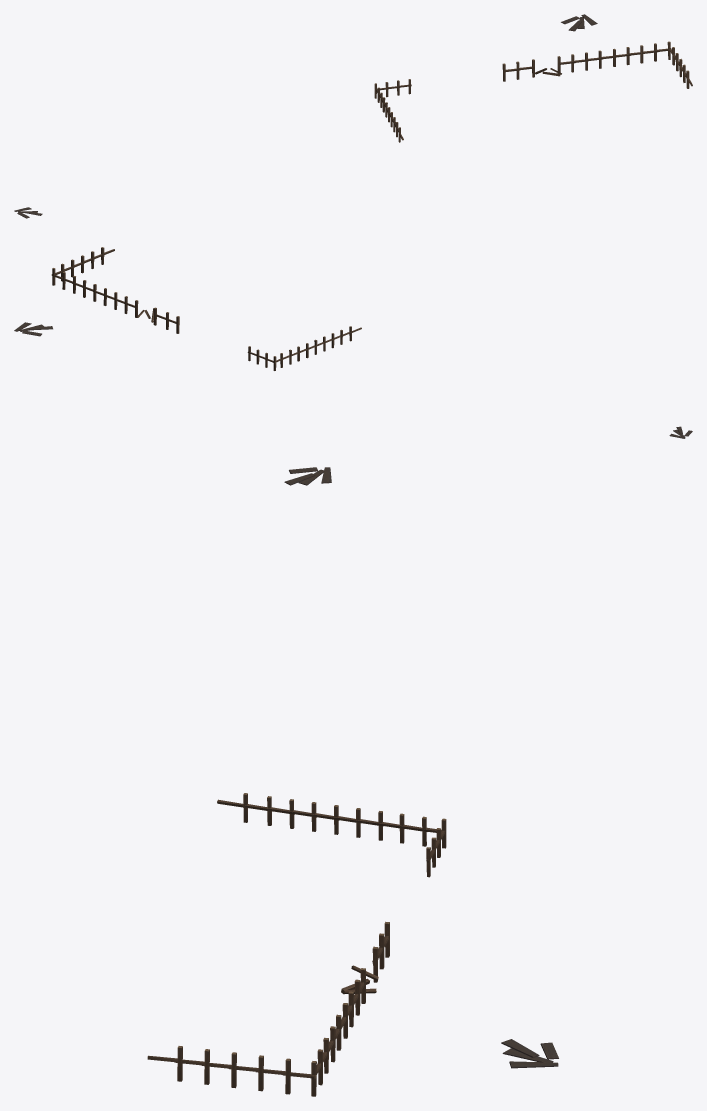
Rendered from zhalan.FBX.
The picture shows the model from 3 angles, top to bottom: view 1: azimuth 30°, elevation 25°; view 2: azimuth 150°, elevation 25°; view 3: azimuth 270°, elevation 25°; orthographic projection. The views are drawn at different scales.
Parts seen in each view (by area): view 1: zhalan; view 2: zhalan; view 3: zhalan.
Boxes of the visible parts, x1,y1,x2,y2 form: zhalan: (14, 14, 692, 218); zhalan: (14, 247, 692, 438); zhalan: (147, 467, 558, 1096).
Size of the model in its own units: 9896 by 251 by 2770.
